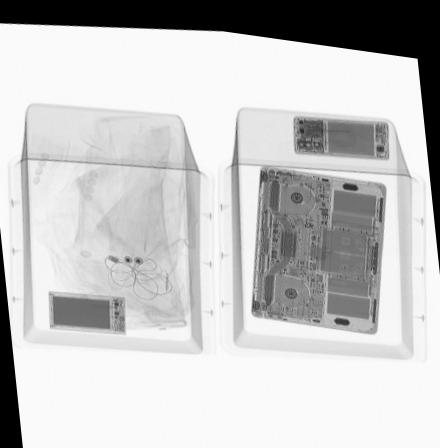Powerbank: (49, 289, 127, 330)
